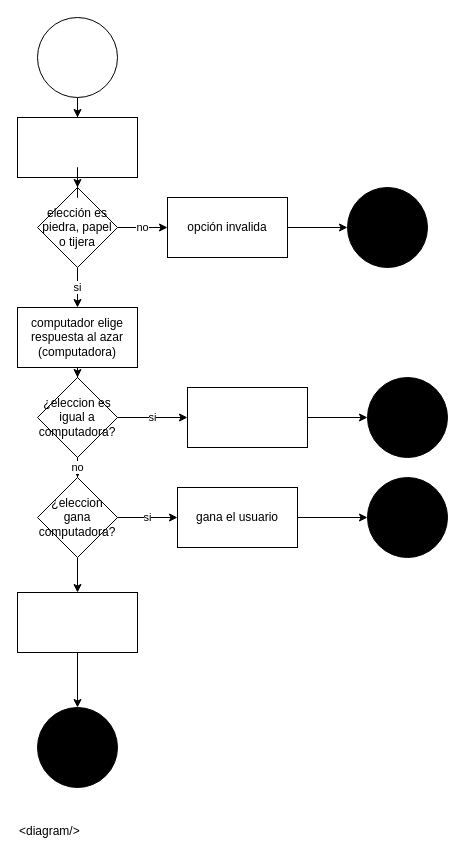
The diagram is 465 pixels wide and 865 high, and some of its shapes have lost their labels. Here are the shapes that lost their labels. From the top down, the centre of each, then its label:
the point at 77,147: usuario ingresa argumento (elección)
the point at 247,417: empate
the point at 77,622: gano el computador
